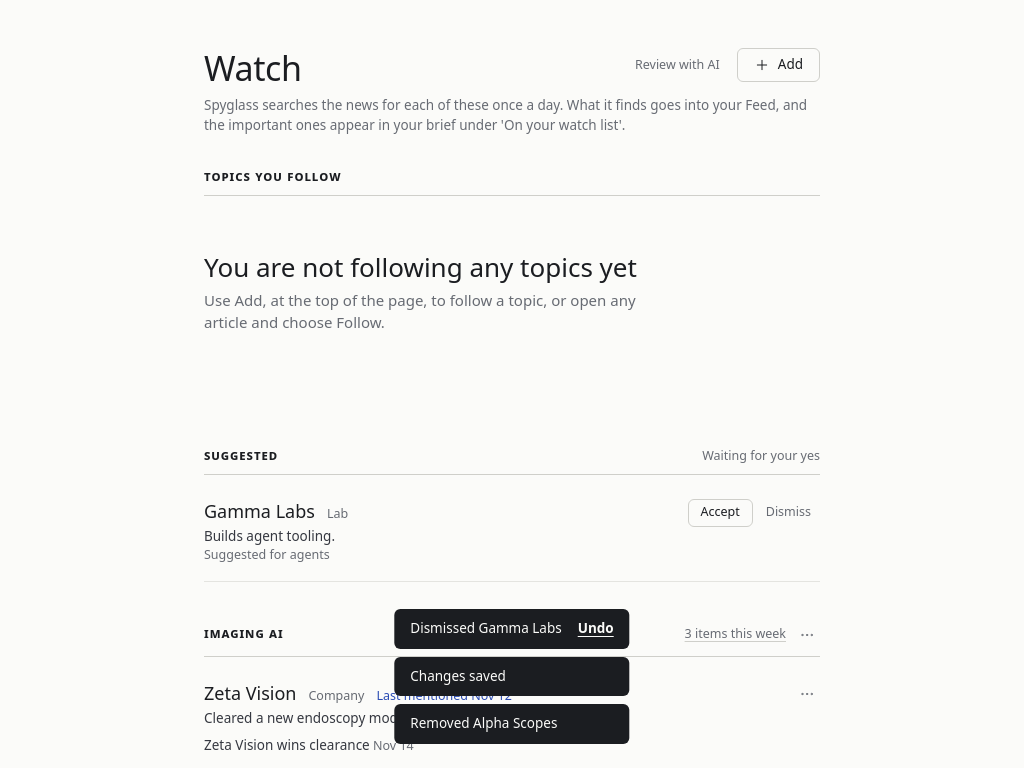
Test case: the Add dialog › offers the three ways to add in one small dialog
Step 1. Click the button "Add" → (778, 65), box [737,48,820,82]
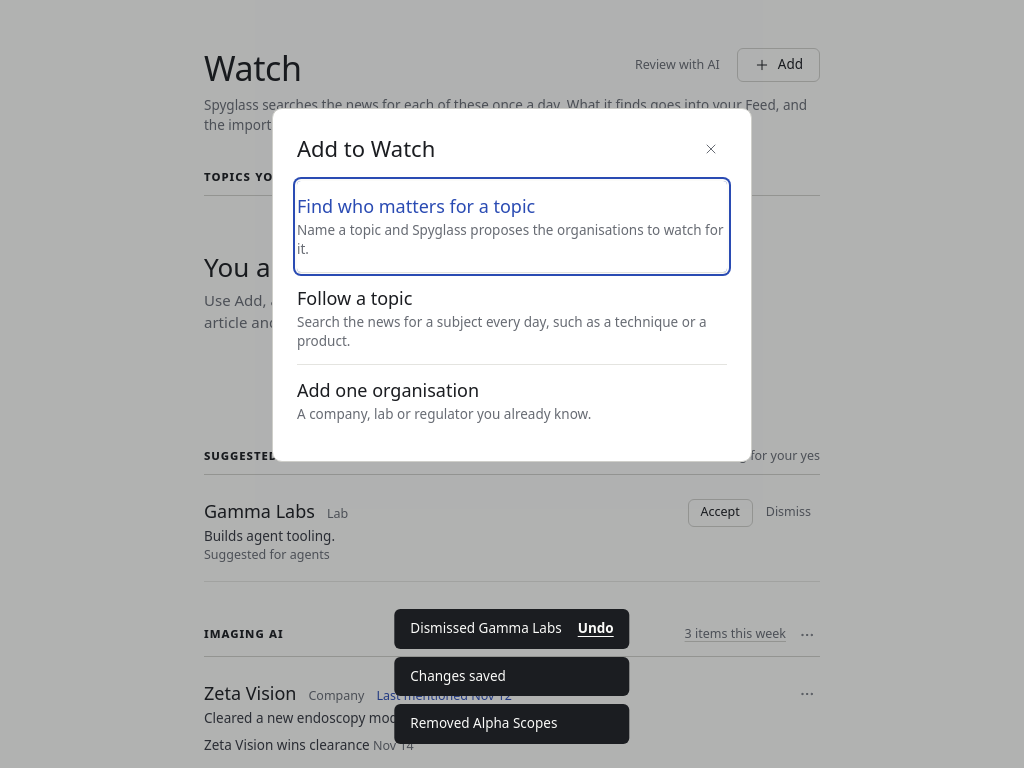
Expected: the button "Find who matters for a topic" is shown, [297,180,727,272]
Expected: the button "Follow a topic" is shown, [297,273,727,364]
Expected: the button "Add one organisation" is shown, [297,365,727,437]
